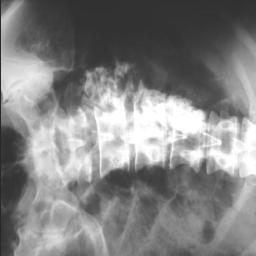cancer: (86, 63, 206, 141)
